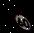Speed Limit -60-: (5, 5, 34, 33)
